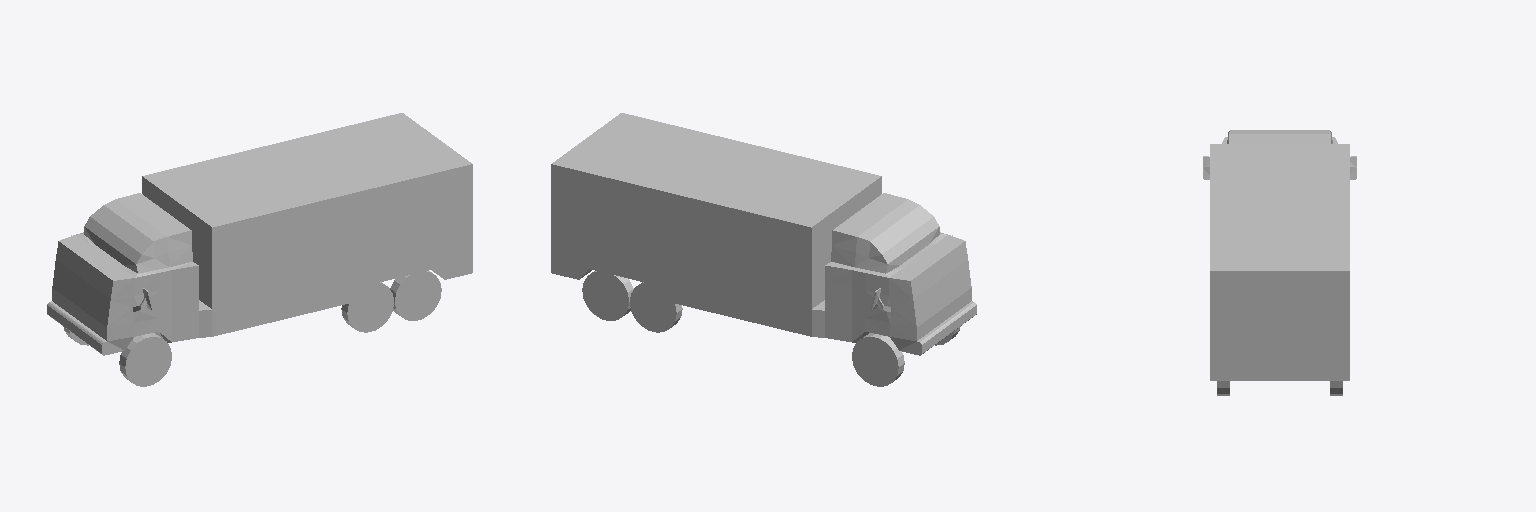
Rendered from truck.obj.
3 views of the same model, side by side, from view 1: azimuth 30°, elevation 25°; view 2: azimuth 150°, elevation 25°; view 3: azimuth 270°, elevation 25° (orthographic).
Parts seen in each view (by area): view 1: truck; view 2: truck; view 3: truck.
Part boxes in pixels (x1,y1,x2,y2): truck: (47,113,472,386); truck: (551,113,976,386); truck: (1203,130,1356,395).
Size of the model in its own units: 25.62 by 9.89 by 9.41.